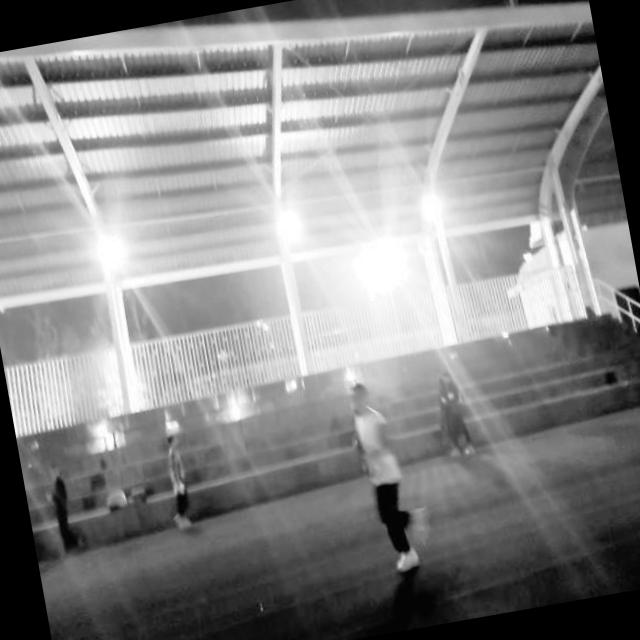Light: (65, 192, 167, 329), (344, 213, 436, 333), (250, 178, 326, 278), (401, 167, 477, 252)
